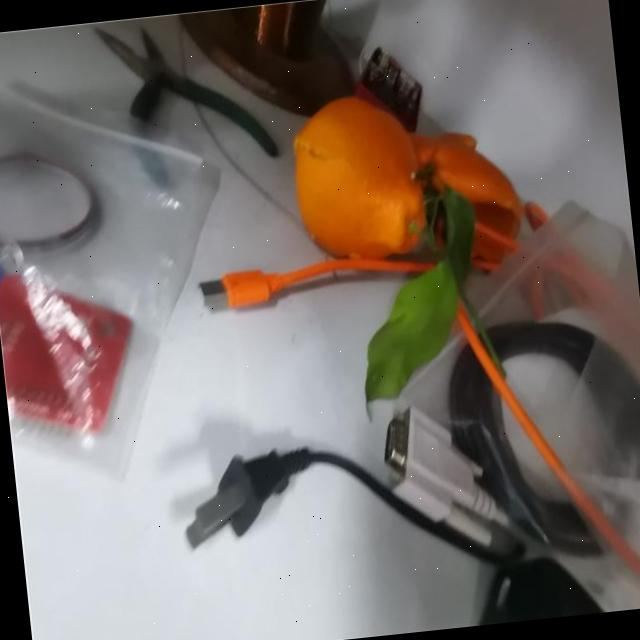orange-peel: (284, 87, 430, 266)
